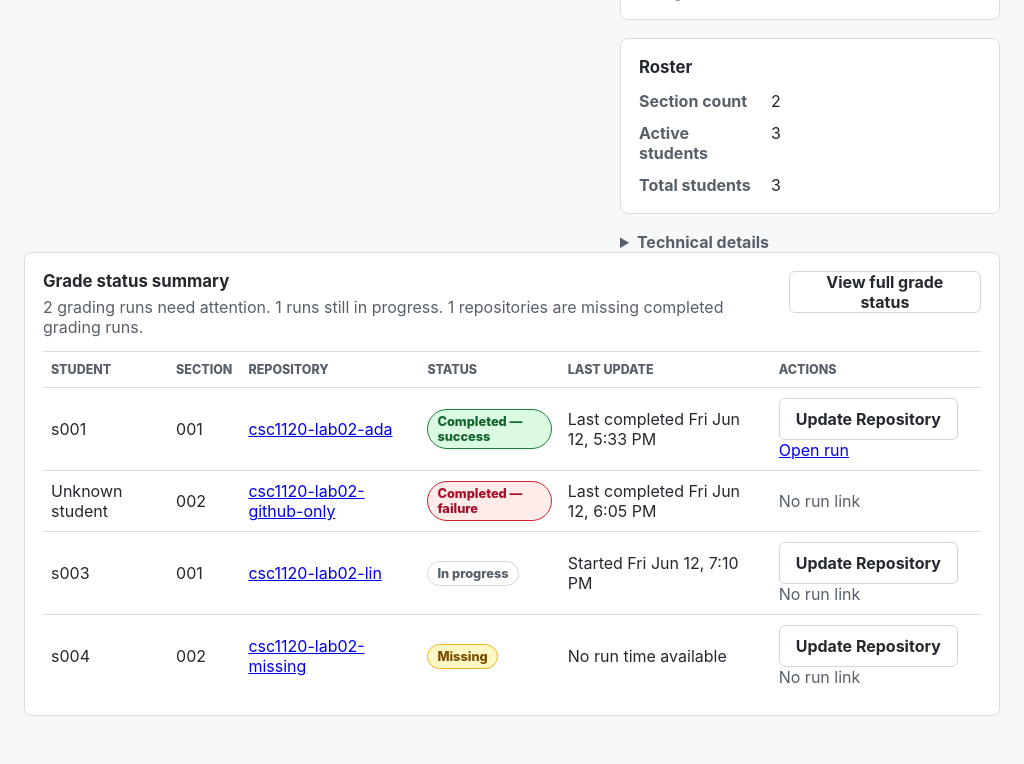
Scenario: AssignmentDetailPage › executes a confirmed single-repository update without renderer repository coordinates
This screenshot has width=1024, height=764.
(page scrolled)
Click the button with aria-label "Update repository for s001" at coordinates (868, 419), box [779,398,958,440]
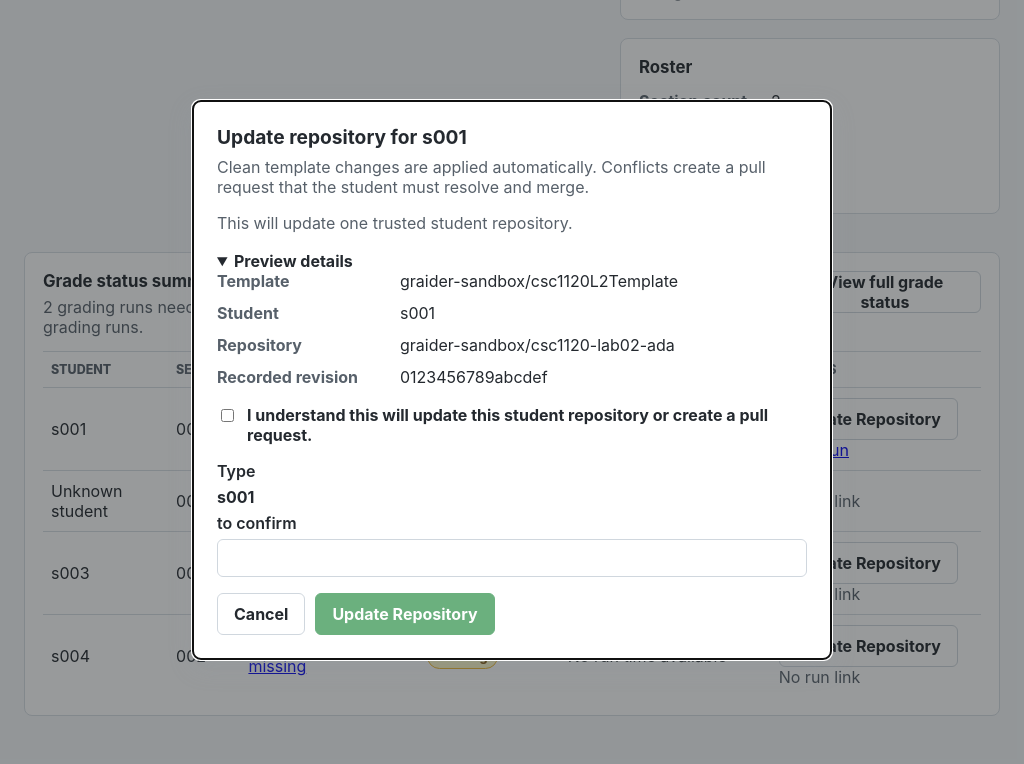
Click the checkbox labelled "I understand this will update this student repository or create a pull request." at coordinates (228, 416), box [221,409,234,422]
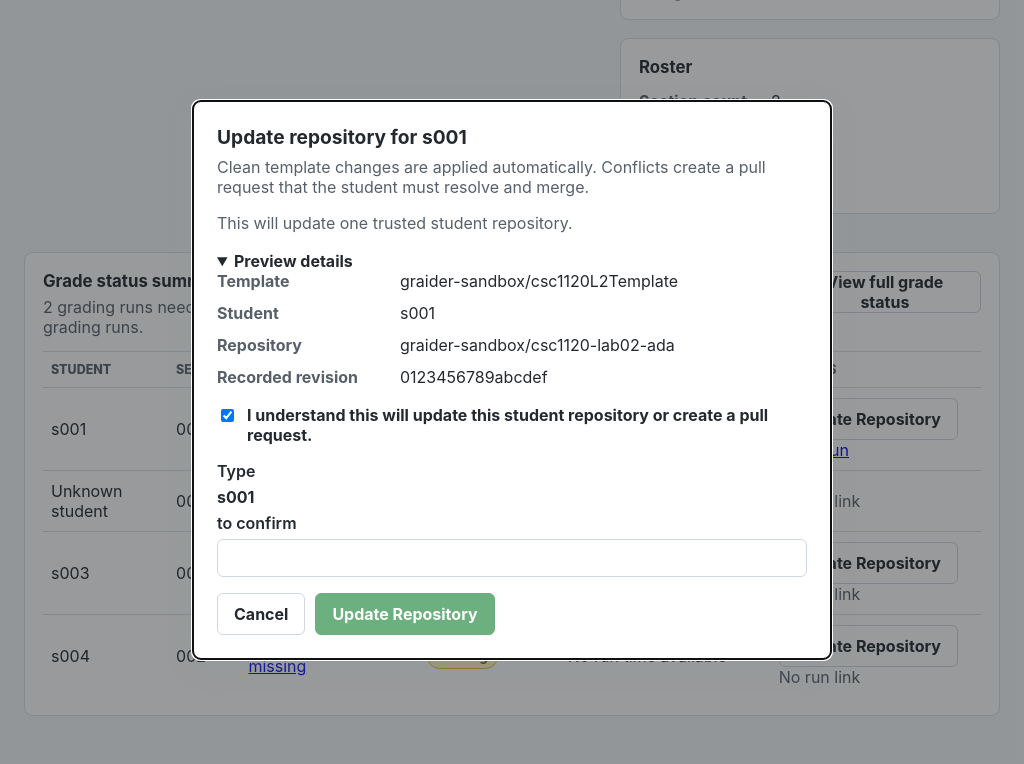
expect the button "Update Repository" is disabled: met, box [315,593,495,635]
Type "s001" into the field labelled "Type s001 to confirm" at coordinates (512, 558), box [217,539,807,577]
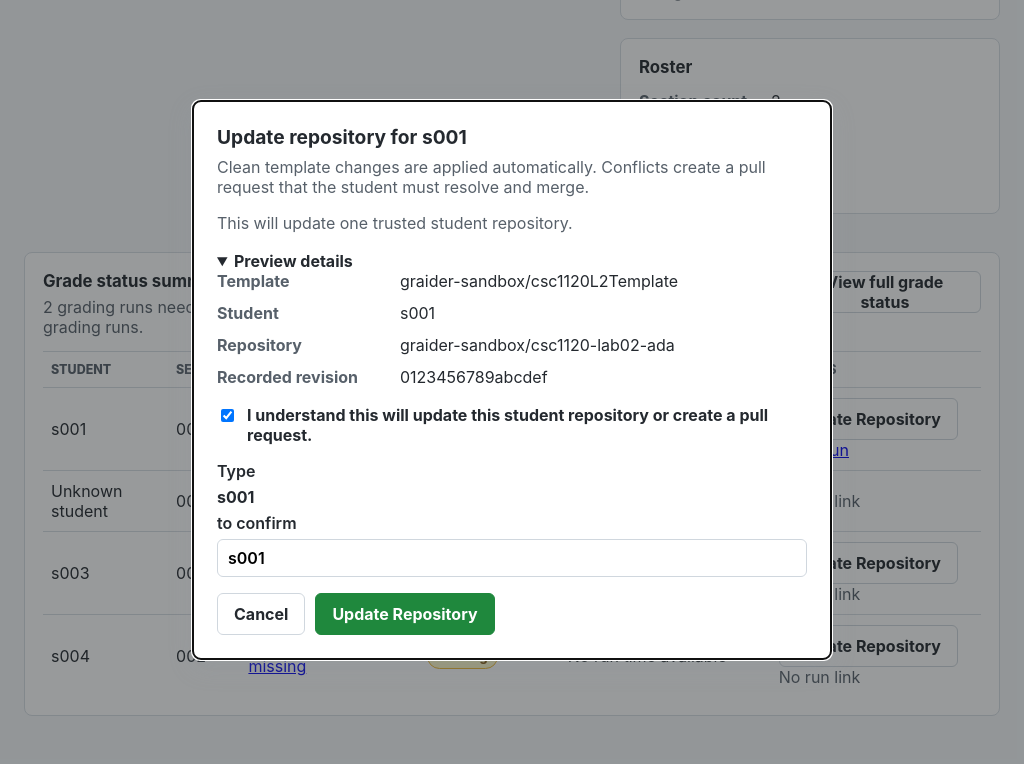
Click the button "Update Repository" at coordinates (405, 614), box [315,593,495,635]
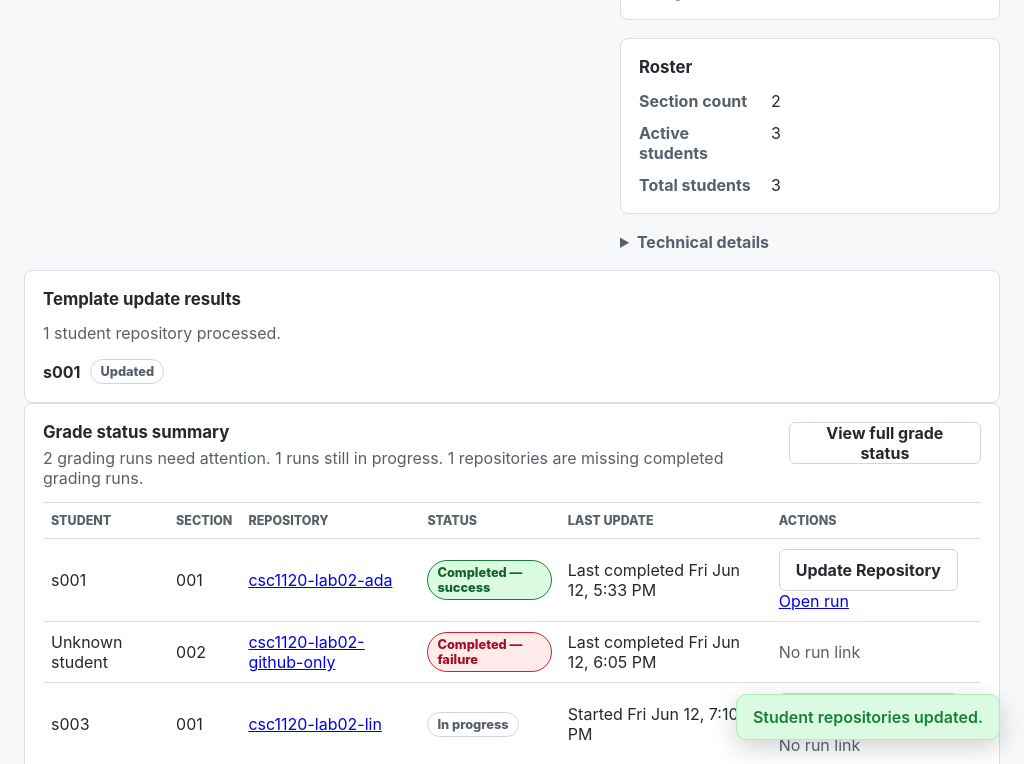
expect the text "Updated" is shown: met, box [90,359,164,384]
